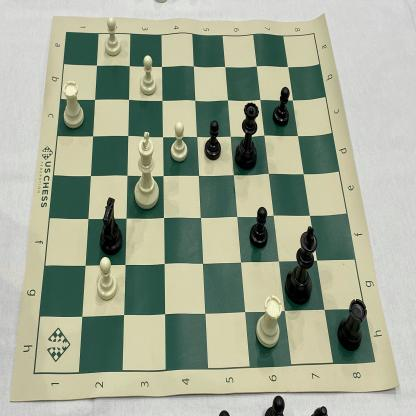black-bishop: (336, 296, 367, 353)
black-king: (284, 221, 318, 308)
black-pawn: (247, 204, 270, 252), (203, 119, 223, 162), (272, 84, 291, 128)
black-queen: (232, 99, 262, 173)
black-rook: (98, 196, 124, 255)
white-king: (131, 130, 163, 211)
white-pawn: (93, 256, 118, 302), (168, 119, 189, 164), (101, 15, 122, 58), (138, 54, 158, 99)
white-rook: (254, 294, 283, 353), (58, 79, 86, 131)
